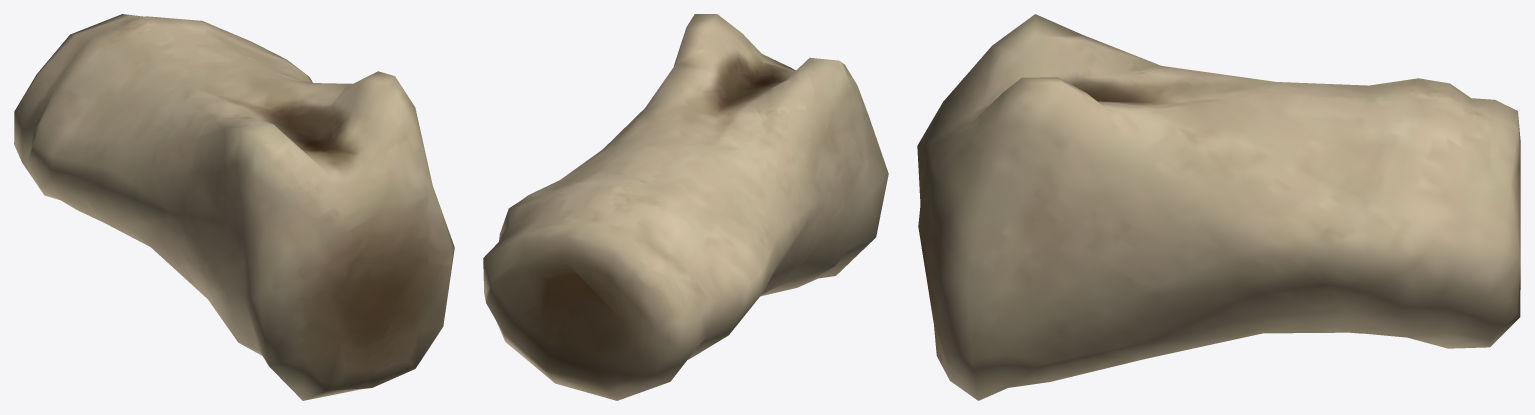
File: Caudal_Vertebrae6.glb
3 views of the same model, side by side, from view 1: azimuth 30°, elevation 25°; view 2: azimuth 150°, elevation 25°; view 3: azimuth 270°, elevation 25° (orthographic). The views are drawn at different scales.
Parts seen in each view (by area): view 1: Caudal_Vertebrae_25:Group17798; view 2: Caudal_Vertebrae_25:Group17798; view 3: Caudal_Vertebrae_25:Group17798.
Boxes of the visible parts, x1=… form: Caudal_Vertebrae_25:Group17798: x1=14, y1=14, x2=454, y2=400; Caudal_Vertebrae_25:Group17798: x1=483, y1=14, x2=888, y2=400; Caudal_Vertebrae_25:Group17798: x1=917, y1=14, x2=1520, y2=400.
Bounding box in the file's own units: 10.38 × 10.46 × 17.5.
Materials: 1 (1 with a texture image).
